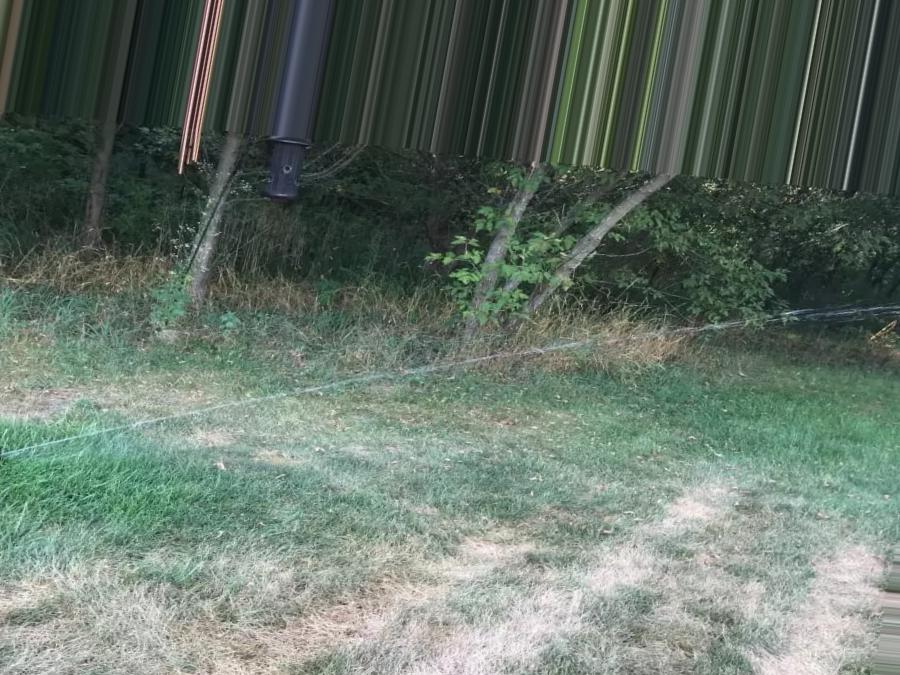patch: (447, 527, 649, 597), (323, 608, 539, 667), (24, 581, 156, 668), (812, 544, 842, 672)
